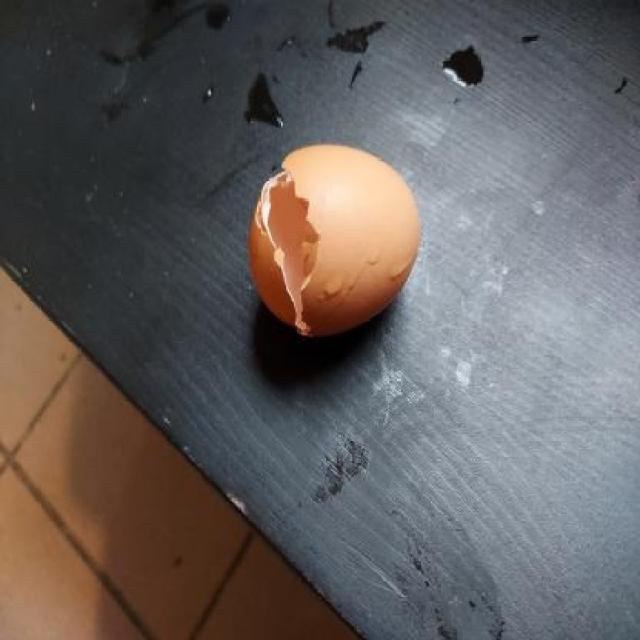biodegradable: (244, 142, 432, 342)
